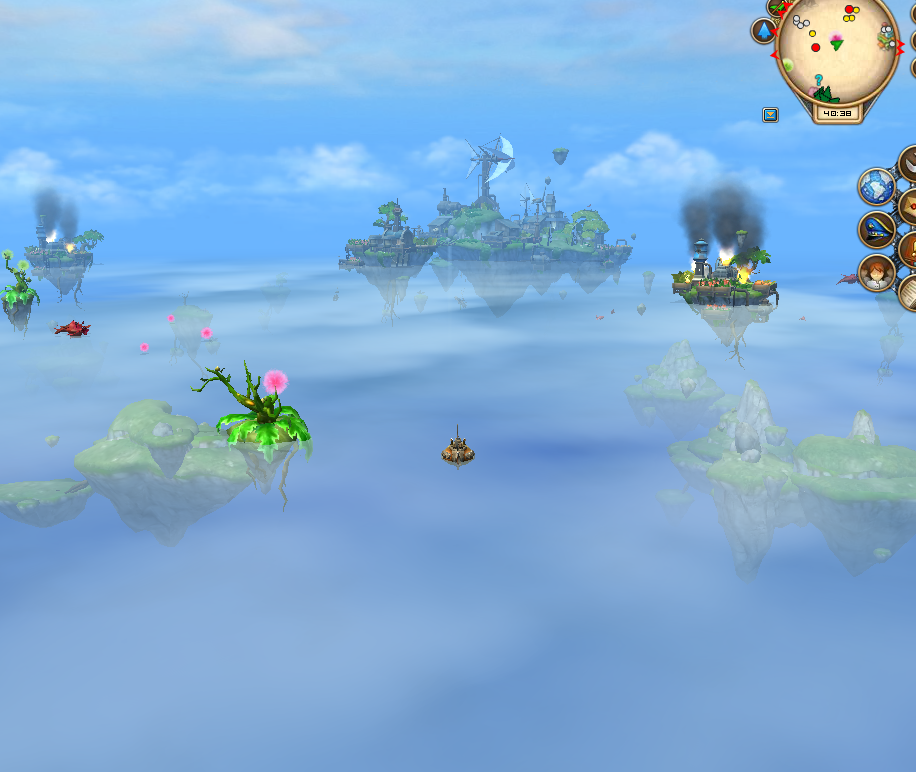dandelion-full: (192, 354, 318, 499), (0, 245, 43, 323)
